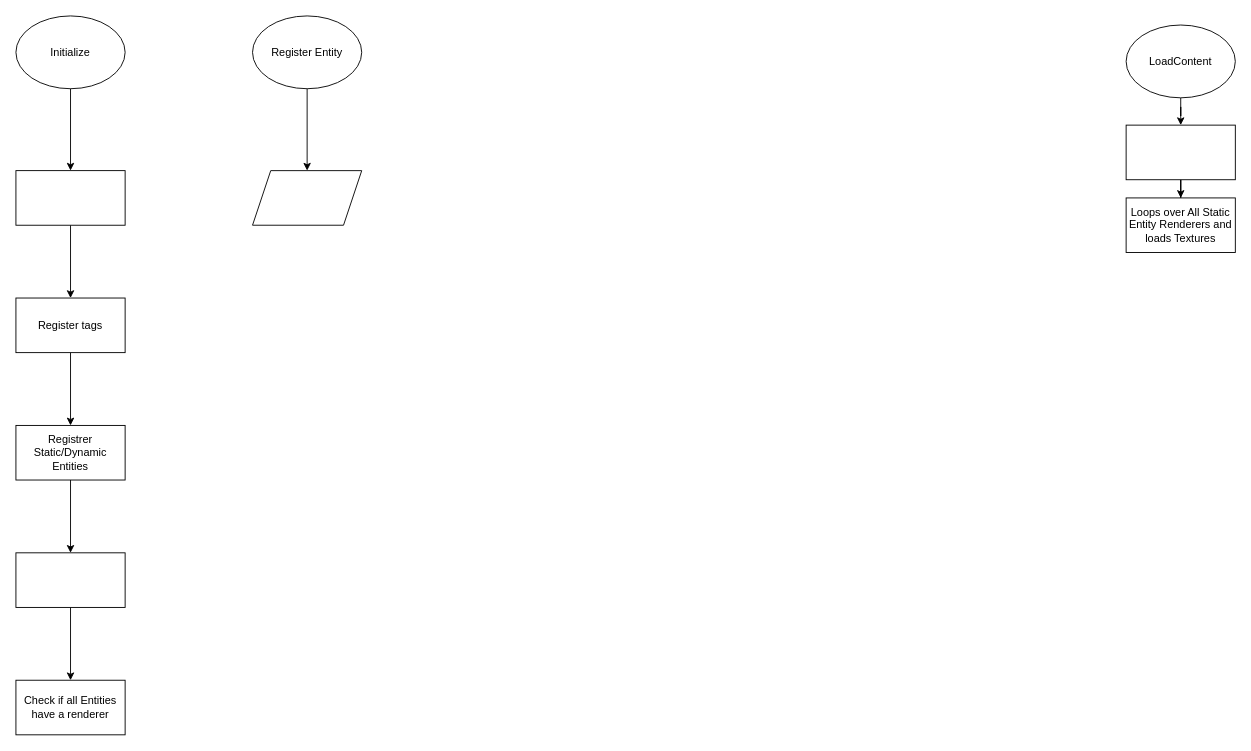
Some shapes in this 1251 by 751 pixel diagram are drawn without their labels. Here are the shapes that lost their labels. From the top down, the centre of each, then its label:
At (x=1180, y=152): "Loops over All Living Entity Renderers and loads Textures".
At (x=70, y=197): "Load Mod Assemblies".
At (x=70, y=579): "Register Entity renderers".
